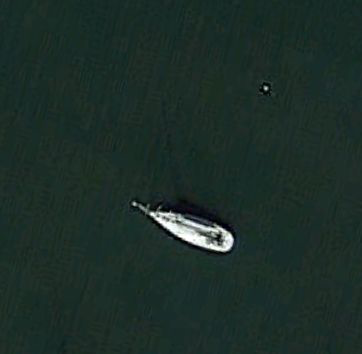boat: (129, 200, 236, 255)
